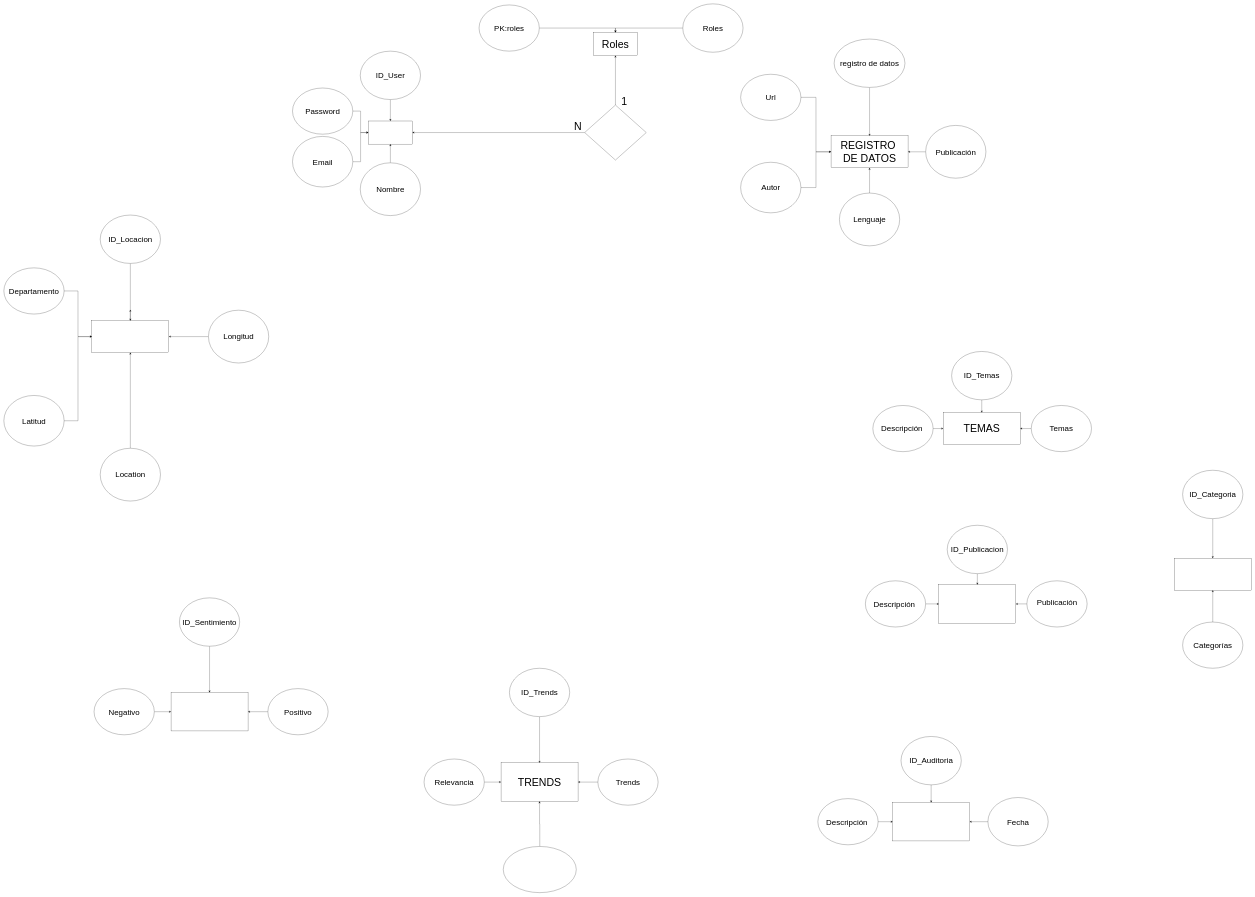
Image size: 1255x897. Some labels were removed from this diagram. Here are the shapes that lost their labels. From the top down, the centre of each, then its label:
pixel 390 132: User
pixel 615 132: TIENE
pixel 130 336: LOCACION
pixel 1212 574: CATEGORIAS
pixel 977 603: PUBLICACION
pixel 209 711: Sentimiento
pixel 931 821: AUDITORIA
pixel 539 869: Intervalos/Periodo
